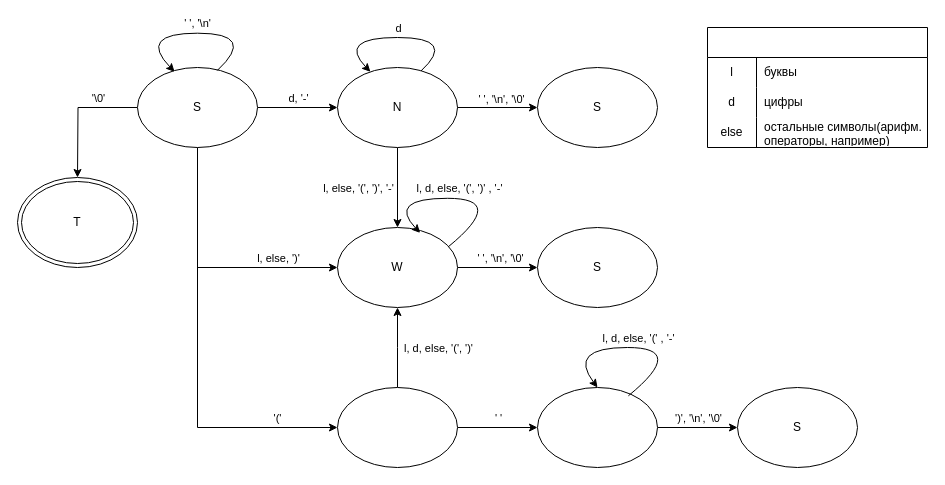
Some shapes in this 945 by 485 pixel diagram are drawn without their labels. Each missing label, with the box of its shape:
COM: (536, 386, 658, 468)
CoW: (336, 386, 458, 468)
Категории входных символов: (706, 26, 928, 148)
